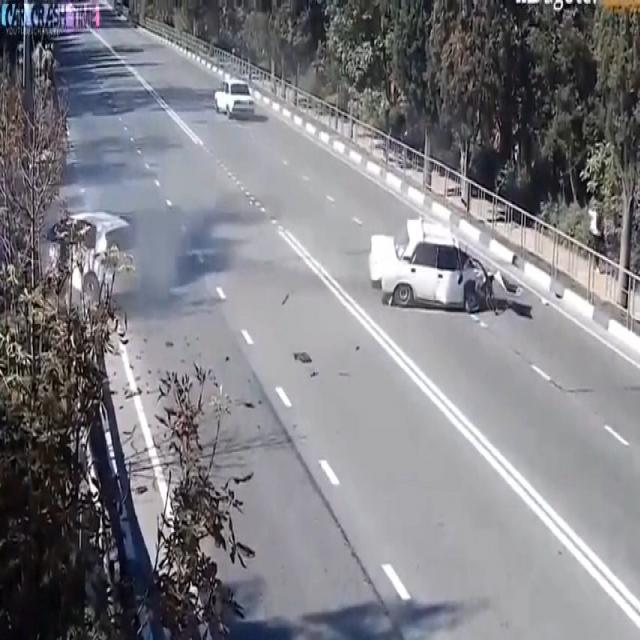Accident: (352, 158, 507, 364), (21, 151, 162, 357)
